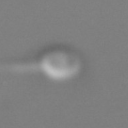normal: (1, 56, 42, 80)
